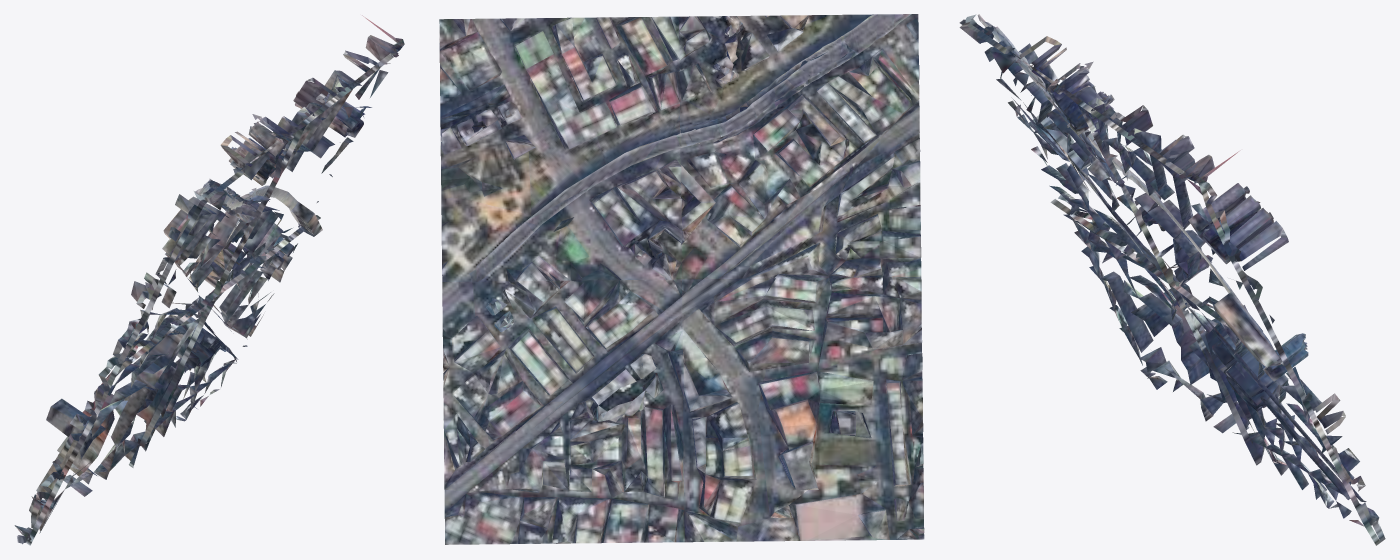
3 renders of one model, left to right at view 1: azimuth 30°, elevation 25°; view 2: azimuth 150°, elevation 25°; view 3: azimuth 270°, elevation 25°, orthographic. The views are drawn at different scales.
Size of the model in its own units: 625 by 584 by 523.
1 material, 1 textured.
